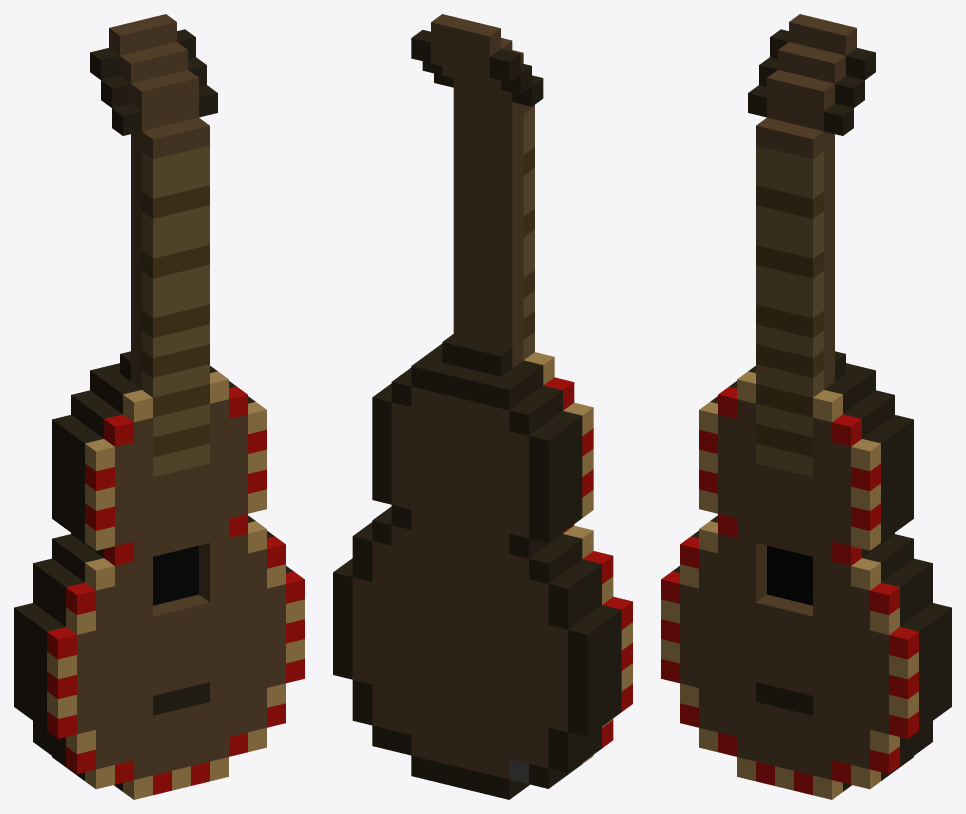
The model's file is Guitar2.obj.
3 views of the same model, side by side, from view 1: azimuth 30°, elevation 25°; view 2: azimuth 150°, elevation 25°; view 3: azimuth 330°, elevation 25° (orthographic). The views are drawn at different scales.
Bounding box in the file's own units: 1.3 × 3.7 × 0.4.
Materials: 1 (1 with a texture image).
